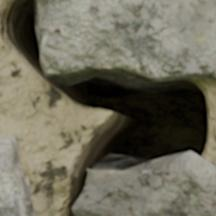brick: (39, 0, 215, 80), (73, 152, 215, 215), (0, 136, 35, 215)
crack: (0, 0, 213, 215)
